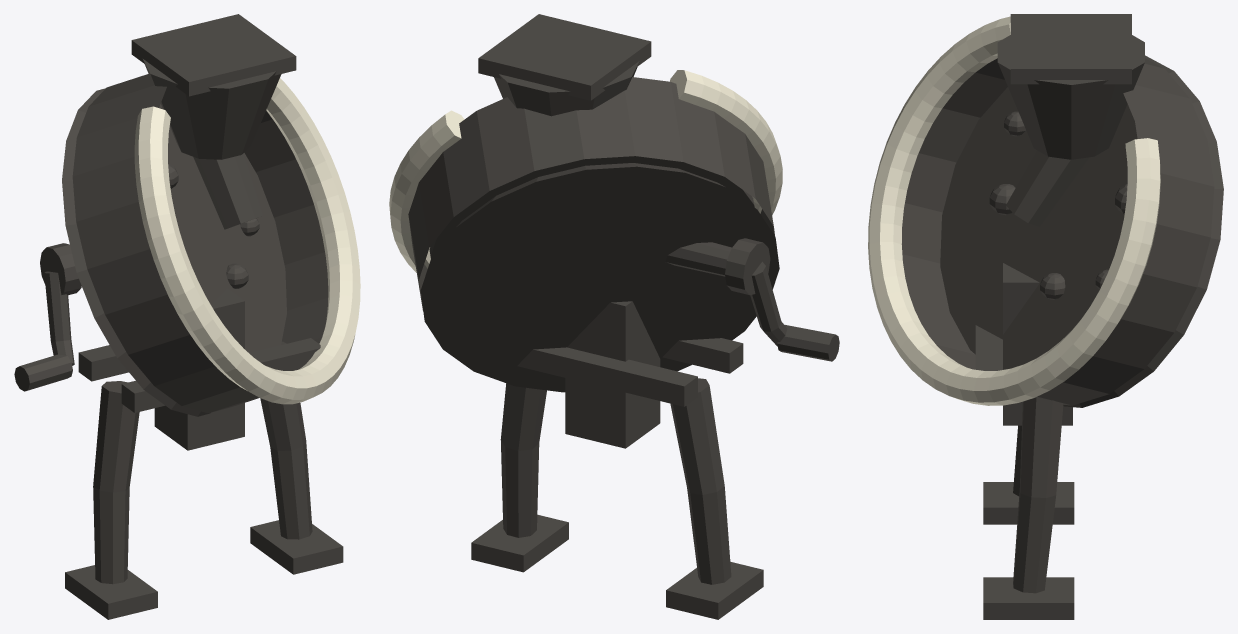
The model's file is panner.glb.
3 views of the same model, side by side, from view 1: azimuth 30°, elevation 25°; view 2: azimuth 150°, elevation 25°; view 3: azimuth 270°, elevation 25° (orthographic). The views are drawn at different scales.
Visible parts, largest first — view 1: panner_dark, panner_bone; view 2: panner_dark, panner_bone; view 3: panner_dark, panner_bone.
Part boxes in pixels (x1,y1,x2,y2): panner_dark: (14, 14, 343, 619); panner_bone: (134, 78, 360, 404); panner_dark: (408, 14, 839, 619); panner_bone: (389, 70, 782, 272); panner_dark: (901, 14, 1223, 619); panner_bone: (868, 16, 1160, 405).
Bounding box in the file's own units: 1.74 × 2.26 × 1.37.
